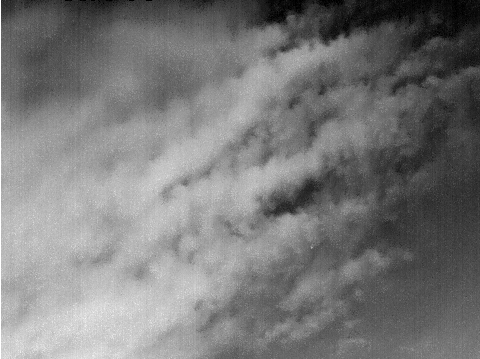dim target: (309, 245, 314, 250)
